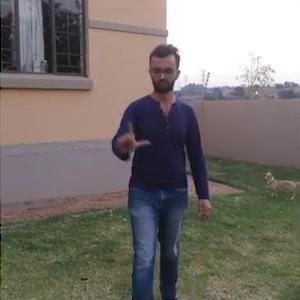land_hand: (110, 113, 152, 158)
